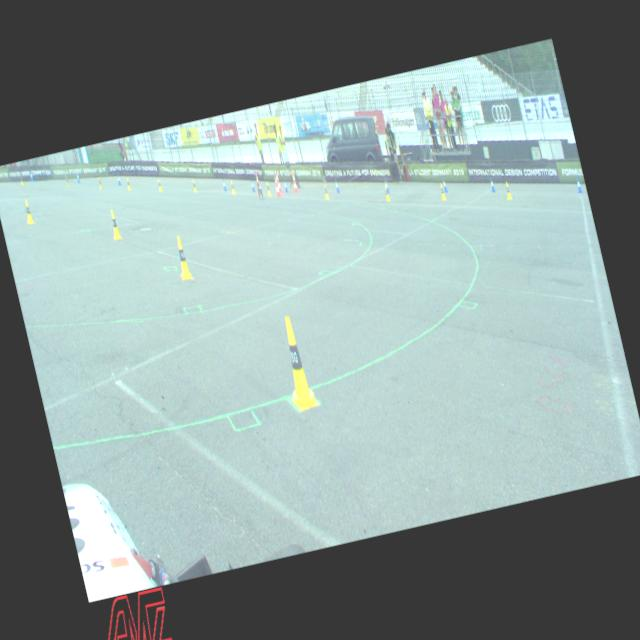blue_cone: (574, 177, 582, 193), (489, 177, 495, 191), (442, 178, 447, 192), (283, 179, 288, 192), (384, 179, 389, 192), (334, 180, 339, 192), (250, 178, 254, 191), (116, 174, 120, 185), (222, 178, 226, 189), (156, 176, 160, 187), (30, 172, 34, 180), (76, 173, 79, 182)
large_orange_cone: (253, 172, 263, 197), (272, 174, 280, 196), (290, 172, 298, 192), (274, 172, 282, 192)
yellow_cone: (273, 314, 318, 410), (173, 235, 192, 279), (108, 208, 120, 238), (22, 199, 34, 223), (504, 181, 512, 199), (438, 182, 445, 199), (383, 186, 390, 200), (322, 184, 328, 199), (265, 181, 271, 196), (157, 178, 162, 190), (192, 178, 196, 192), (230, 180, 234, 193), (126, 177, 130, 189), (98, 176, 102, 188), (64, 176, 68, 187), (20, 175, 23, 184)
